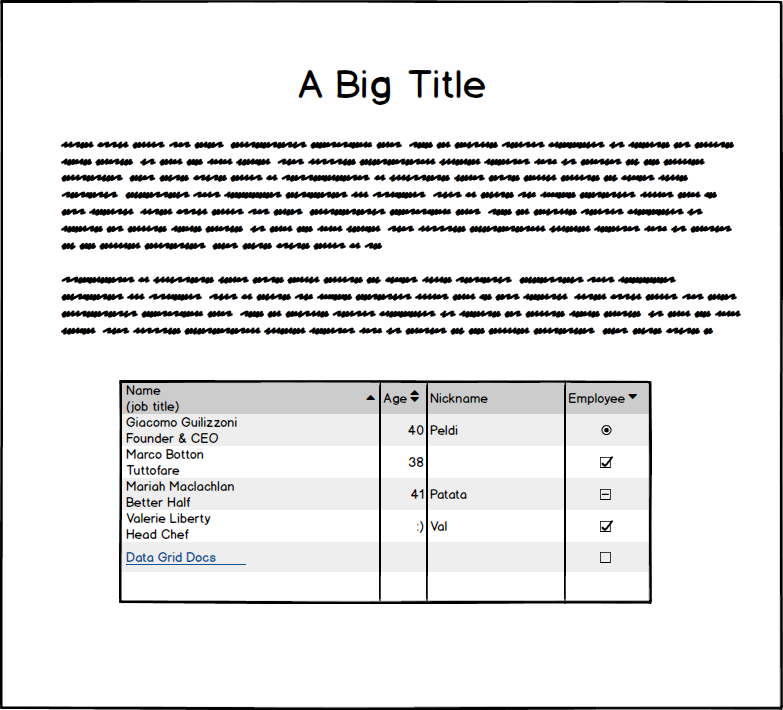h1: (291, 61, 497, 114)
p: (58, 131, 747, 351)
table: (115, 376, 659, 610)
